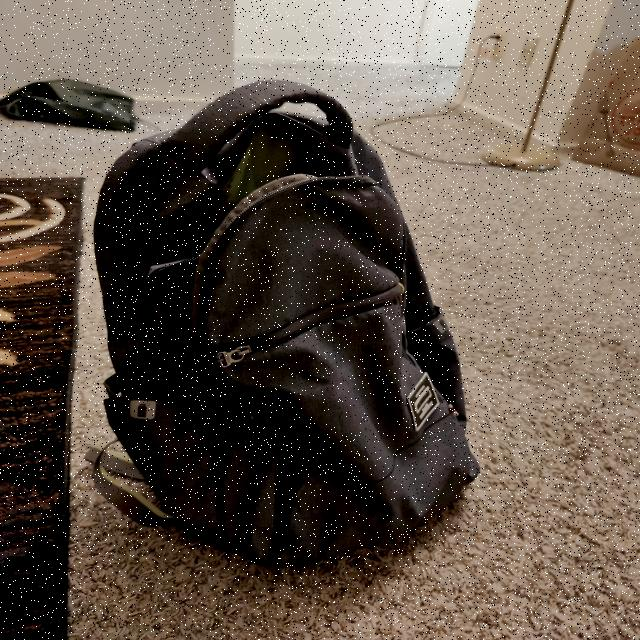bag: (84, 86, 482, 560)
